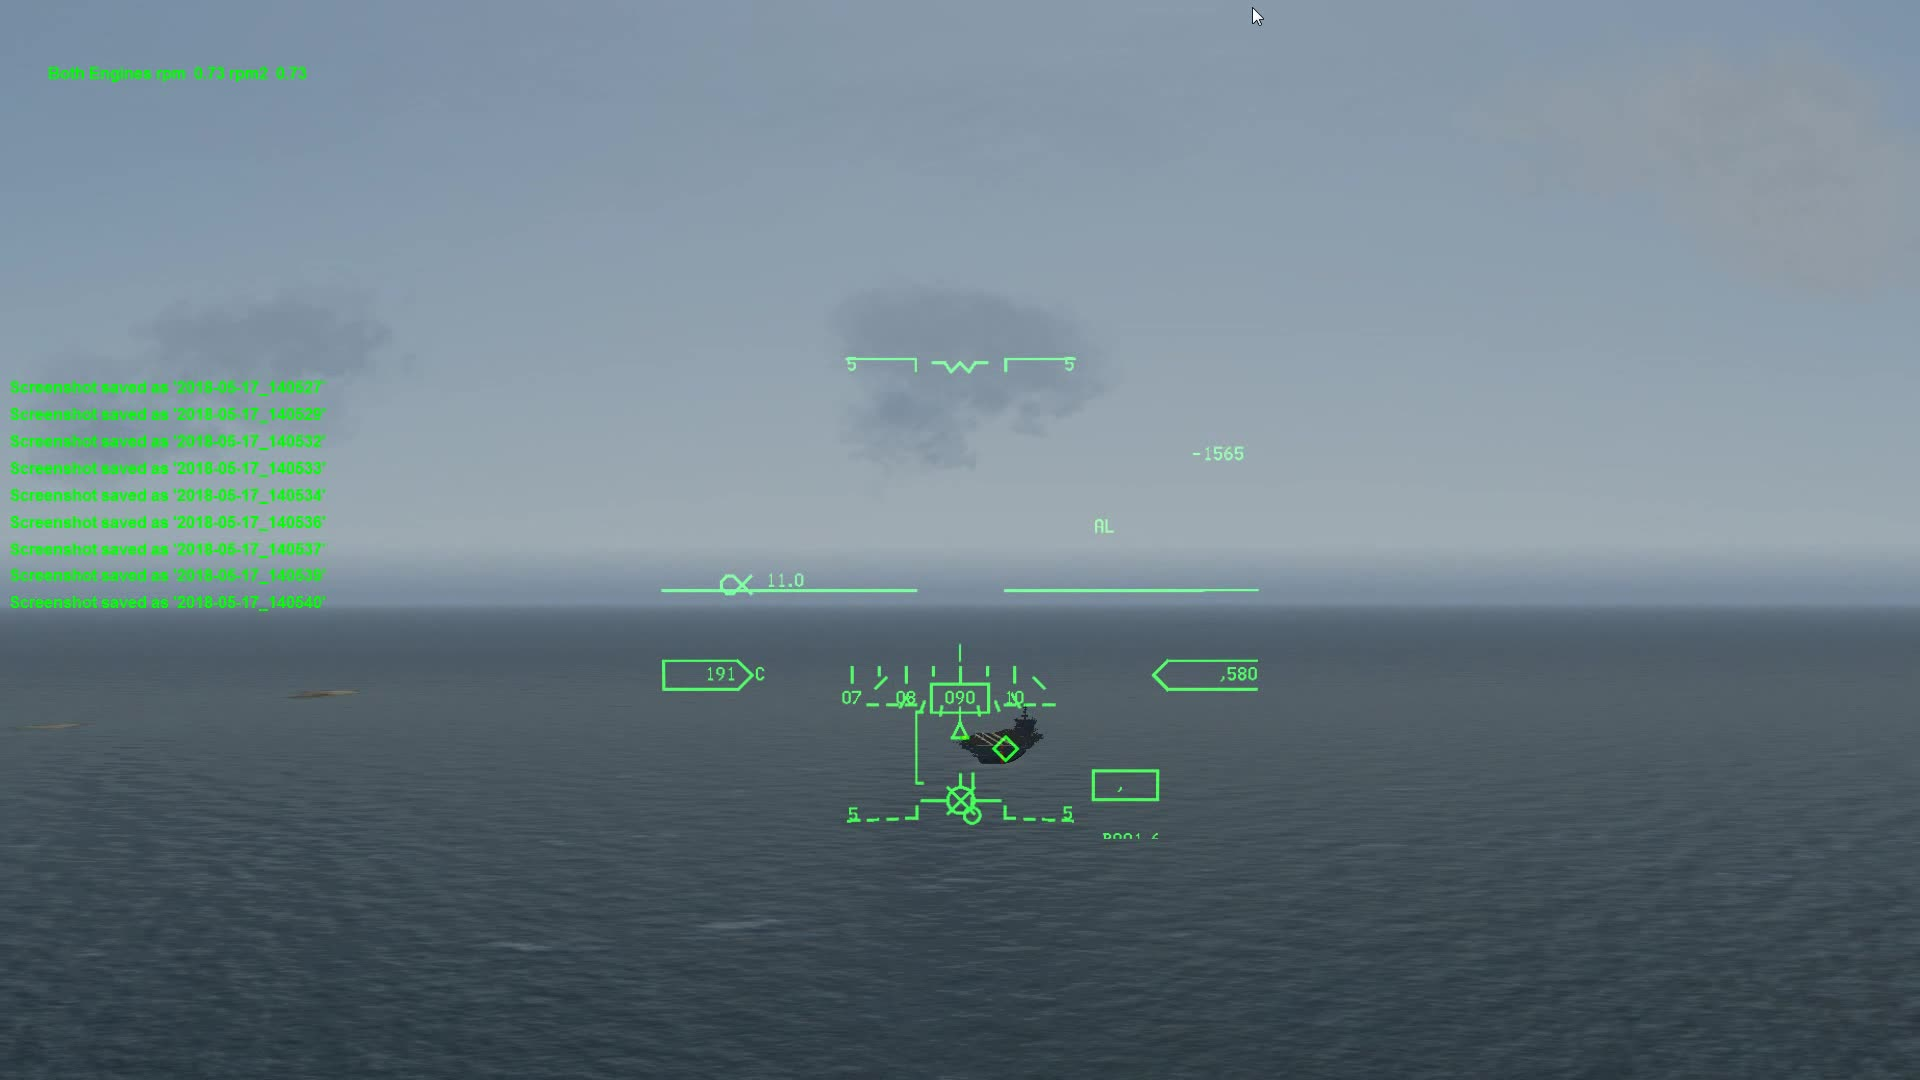speed vector: (922, 767, 1004, 814)
